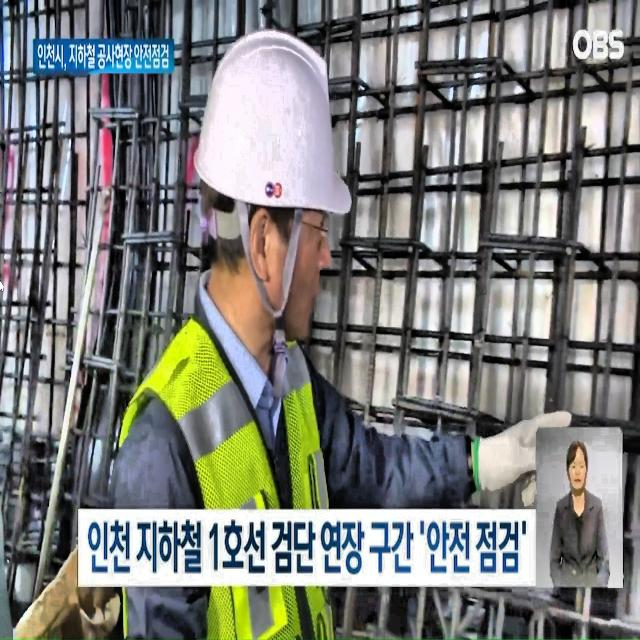safety_helmet: (192, 19, 353, 228)
safety_jacket: (109, 308, 338, 640)
